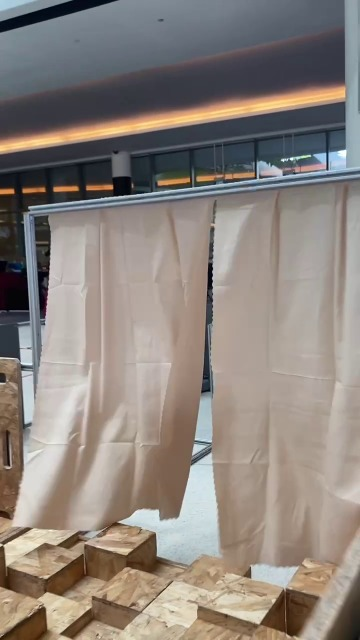curtain: (18, 192, 360, 544)
